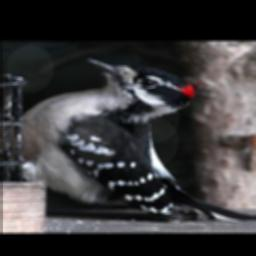Woodpecker: (9, 58, 256, 221)
